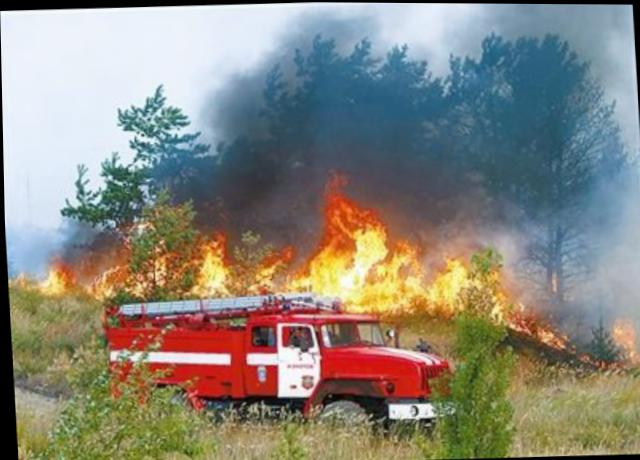fire: (10, 169, 632, 371)
